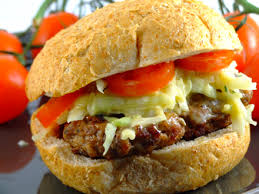hamburger: (30, 1, 258, 191)
